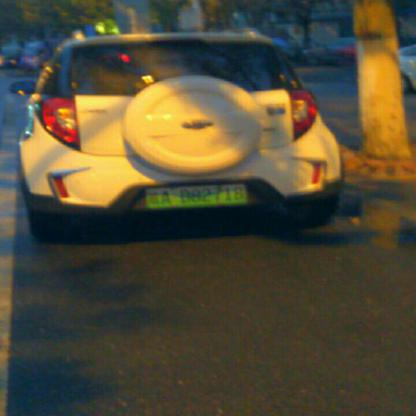lp: (144, 184, 247, 207)
